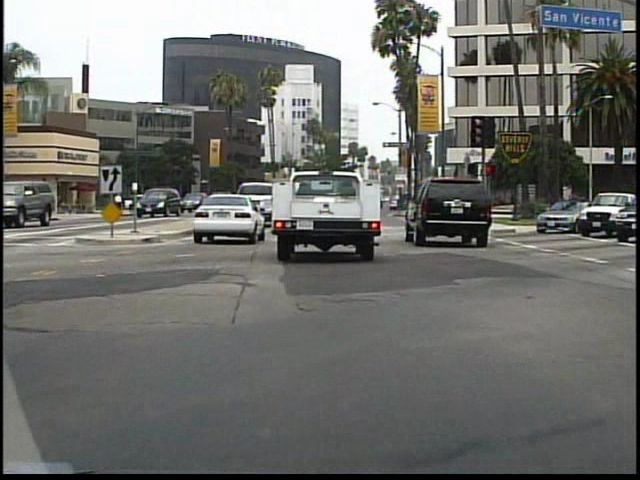person: (109, 189, 127, 223)
